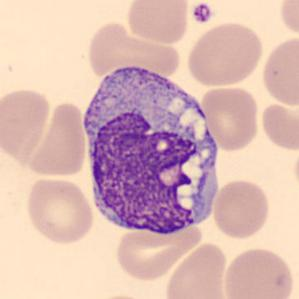Monocyte: (80, 55, 227, 241)
Platelets: (190, 1, 214, 26)
RBC: (112, 214, 204, 284), (184, 20, 265, 89), (85, 24, 181, 80), (23, 175, 97, 246), (24, 100, 89, 178), (198, 84, 262, 152), (220, 244, 296, 299), (0, 84, 52, 164), (162, 241, 230, 299), (211, 177, 272, 241), (124, 0, 191, 45), (259, 34, 298, 108), (258, 100, 298, 152), (277, 0, 298, 40), (292, 143, 299, 197)
